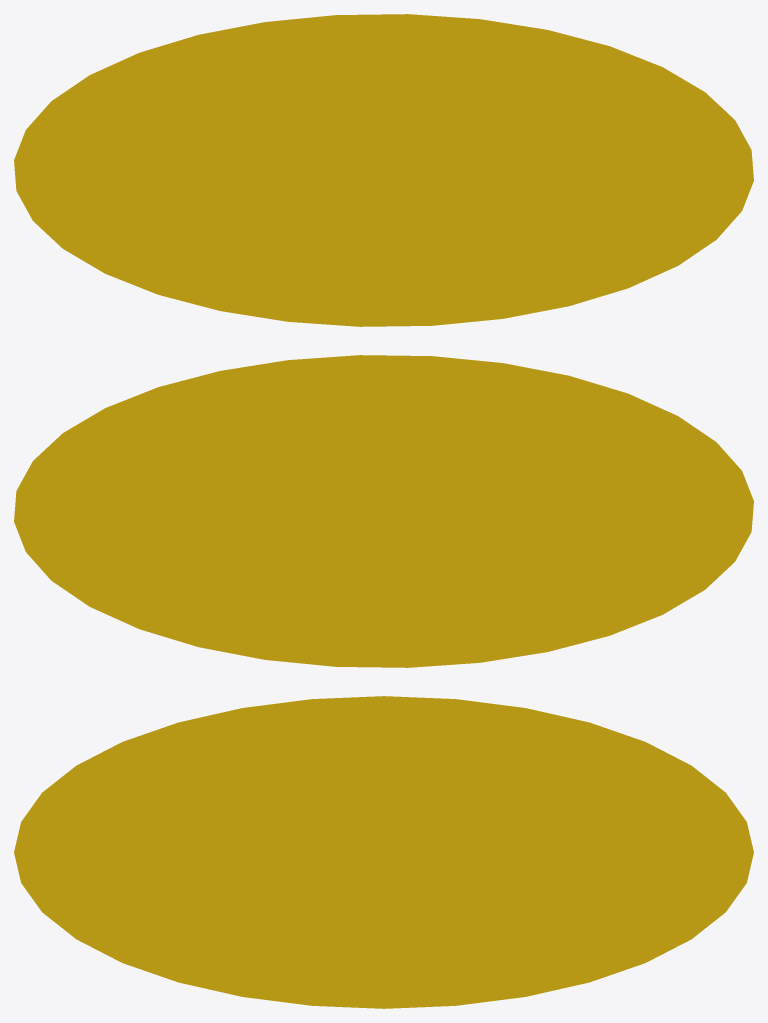
File: portalRing.obj
The picture shows the model from 3 angles, top to bottom: view 1: azimuth 30°, elevation 25°; view 2: azimuth 150°, elevation 25°; view 3: azimuth 270°, elevation 25°; orthographic projection.
Parts seen in each view (by area): view 1: Circle.001; view 2: Circle.001; view 3: Circle.001.
Part boxes in pixels (bbox=[...]): Circle.001: bbox=[14, 14, 753, 326]; Circle.001: bbox=[14, 355, 753, 667]; Circle.001: bbox=[14, 696, 753, 1008].
Size of the model in its own units: 3.98 by 0 by 3.98.
